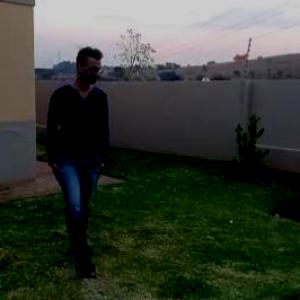follow: (45, 36, 129, 284)
